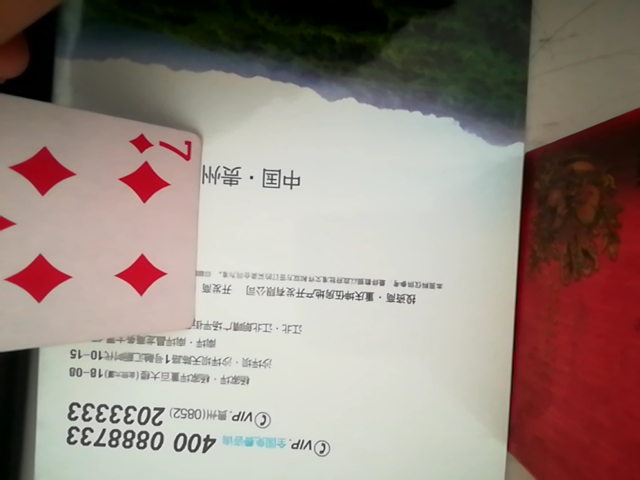fk 7: (0, 97, 210, 348)
